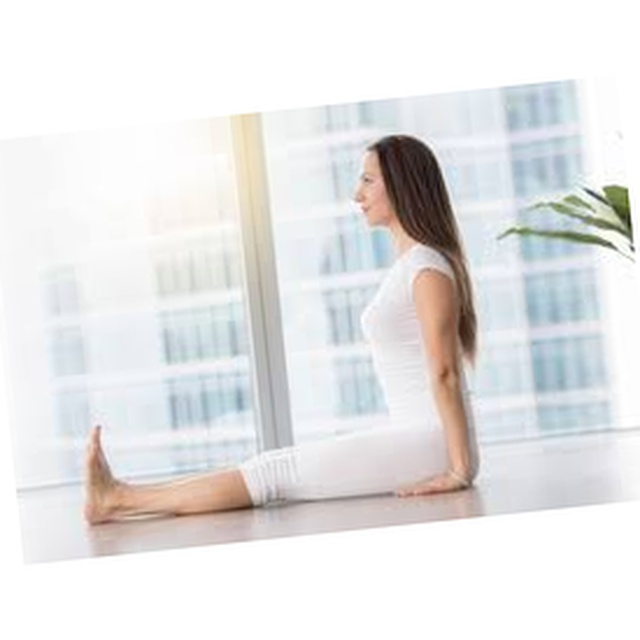Staff_Pose: (82, 134, 484, 523)
